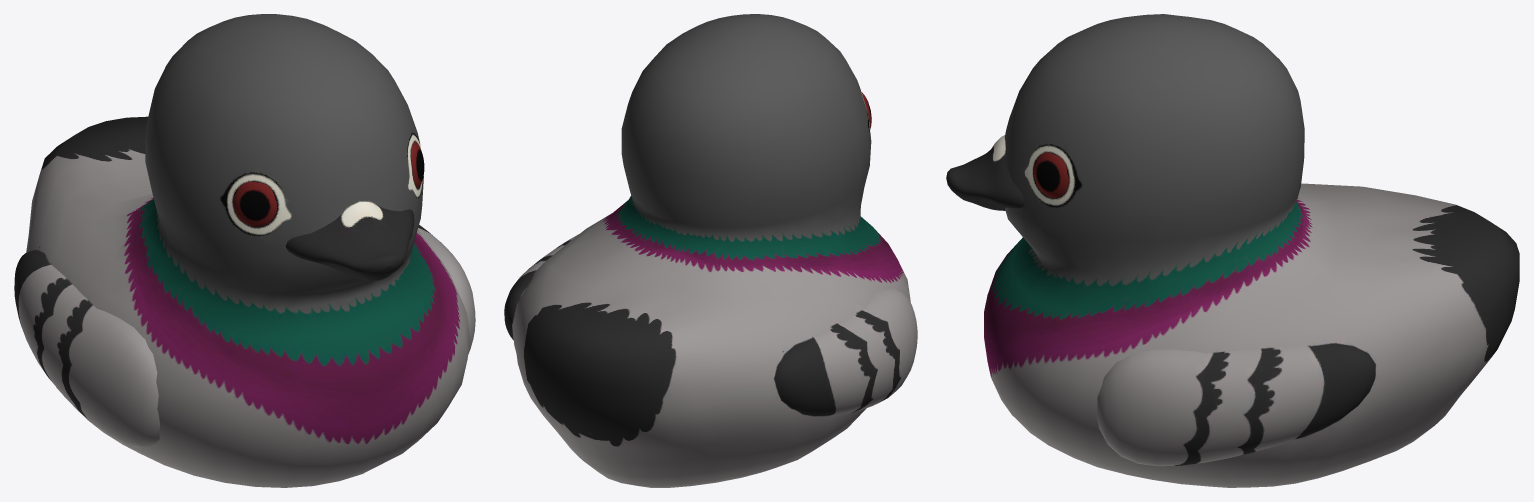
File: Paloma.fbx
3 renders of one model, left to right at view 1: azimuth 30°, elevation 25°; view 2: azimuth 150°, elevation 25°; view 3: azimuth 270°, elevation 25°, orthographic. The views are drawn at different scales.
Visible parts, largest first — view 1: Paloma; view 2: Paloma; view 3: Paloma.
Part boxes in pixels (x1,y1,x2,y2): Paloma: (14,14,475,487); Paloma: (504,14,917,487); Paloma: (946,14,1519,487).
Bounding box in the file's own units: 1.2 × 1.56 × 1.31.
